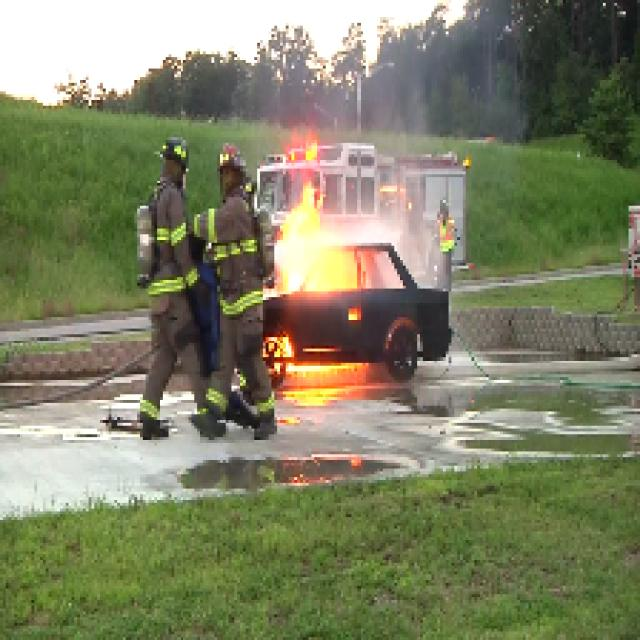fire: (270, 194, 357, 292)
